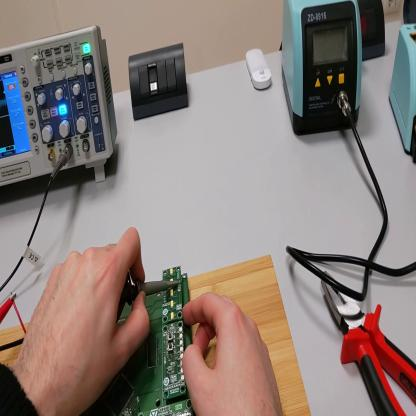hand: (24, 226, 152, 416), (181, 289, 282, 415)
low voltage board: (82, 267, 196, 416)
oscilloscope: (2, 21, 119, 192)
oscilloscope probe tip: (120, 279, 180, 315)
pliers: (323, 275, 416, 414)
socket: (361, 2, 387, 62), (400, 1, 416, 25)
welder base: (389, 20, 414, 171)
welder station: (280, 2, 363, 138)
working area: (2, 253, 313, 415)
